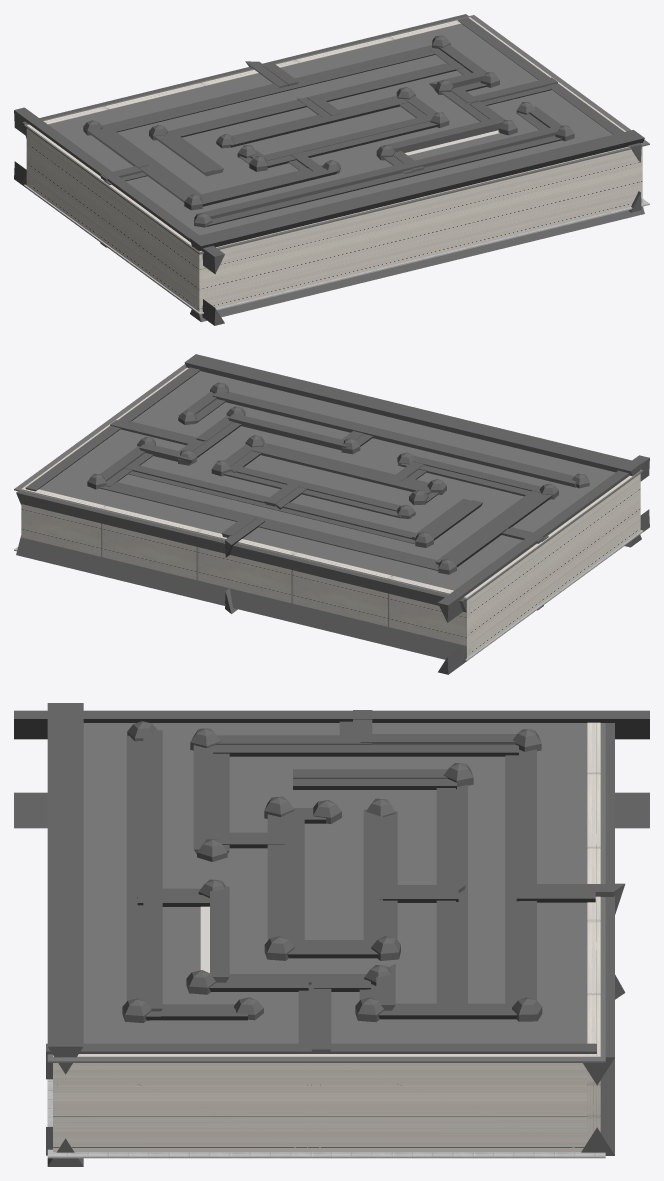
Rendered from maze 1.fbx.
3 views of the same model, one above another, from view 1: azimuth 30°, elevation 25°; view 2: azimuth 150°, elevation 25°; view 3: azimuth 270°, elevation 25° (orthographic). The views are drawn at different scales.
Parts seen in each view (by area): view 1: pCube1, pCube3, pCylinder17 (×2), pCylinder36 (×2), pCylinder18, pCylinder16, pCylinder5, pCylinder2, pCube2, pCylinder24, pCylinder3, pCylinder1 (+14 smaller); view 2: pCube3, pCube1, pCylinder1 (×2), pCylinder17, pCylinder36 (×2), pCylinder18, pCylinder2, pCylinder5, pCylinder24, pCylinder8, pCylinder4, pCylinder3 (+15 smaller); view 3: pCube3, pCube1, pCylinder17, pCylinder36 (×2), pCylinder24, pCylinder18, pCylinder1 (×2), pCylinder2, pCylinder16, pCube2, pCylinder5, pCylinder38 (+26 smaller).
Part boxes in pixels (x1,y1,x2,y2): pCube1: (26, 17, 642, 311); pCube3: (24, 15, 649, 254); pCylinder17 (×2): (190, 130, 644, 322); pCylinder36 (×2): (14, 107, 224, 325); pCylinder18: (196, 126, 558, 219); pCylinder16: (207, 135, 562, 226); pCylinder5: (174, 63, 464, 137); pCylinder2: (102, 45, 431, 128); pCube2: (24, 184, 649, 314); pCylinder24: (457, 17, 641, 162); pCylinder3: (113, 51, 435, 132); pCylinder1: (22, 14, 468, 138); pCube3: (14, 364, 643, 600); pCube1: (21, 367, 640, 658); pCylinder1 (×2): (16, 490, 466, 663); pCylinder17: (184, 354, 641, 476); pCylinder36 (×2): (438, 455, 649, 674); pCylinder18: (212, 392, 576, 487); pCylinder2: (99, 485, 438, 570); pCylinder5: (125, 463, 415, 539); pCylinder24: (25, 367, 200, 491); pCylinder8: (249, 446, 431, 494); pCylinder4: (128, 471, 415, 543); pCylinder3: (113, 482, 436, 563); pCube3: (47, 723, 605, 1062); pCube1: (53, 722, 600, 1152); pCylinder17: (47, 703, 83, 1074); pCylinder36 (×2): (14, 710, 649, 828); pCylinder24: (46, 1043, 596, 1079); pCylinder18: (143, 730, 162, 1011); pCylinder1 (×2): (581, 723, 614, 1155); pCylinder2: (517, 749, 536, 1000); pCylinder16: (126, 735, 143, 1001); pCube2: (47, 1079, 605, 1158); pCylinder5: (436, 788, 455, 1006); pCylinder38: (213, 744, 518, 756).
Size of the model in its own units: 39.69 by 7.16 by 30.62.
4 materials, 2 textured.
